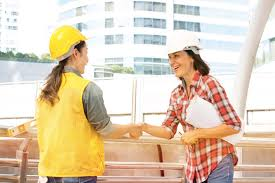Person_wearing_helmet: (159, 25, 206, 61), (47, 23, 93, 58)
